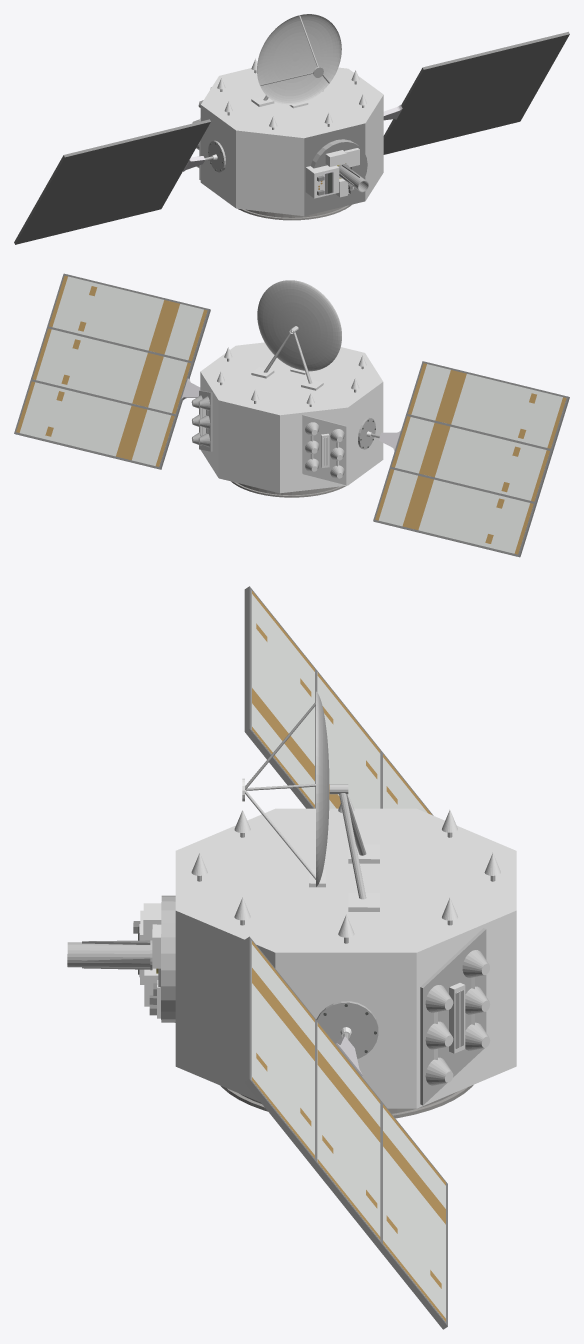
The model's file is dscovr.glb.
3 renders of one model, top to bottom at view 1: azimuth 30°, elevation 25°; view 2: azimuth 150°, elevation 25°; view 3: azimuth 270°, elevation 25°, orthographic. The views are drawn at different scales.
Parts seen in each view (by area): view 1: Layer_0; view 2: Layer_0; view 3: Layer_0.
Boxes of the visible parts, x1=… form: Layer_0: x1=14, y1=14, x2=569, y2=244; Layer_0: x1=14, y1=273, x2=569, y2=557; Layer_0: x1=67, y1=586, x2=516, y2=1329.
Bounding box in the file's own units: 266 × 96.41 × 103.
5 materials, 5 textured.
